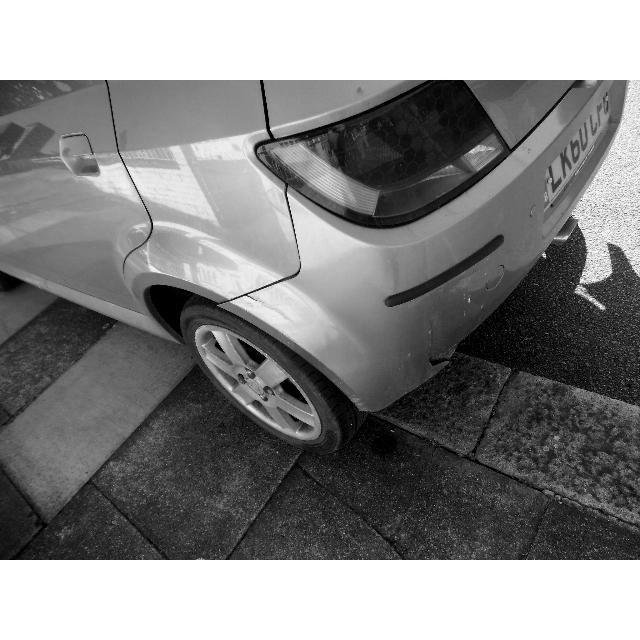rear-bumper-dent: (242, 256, 456, 401)
